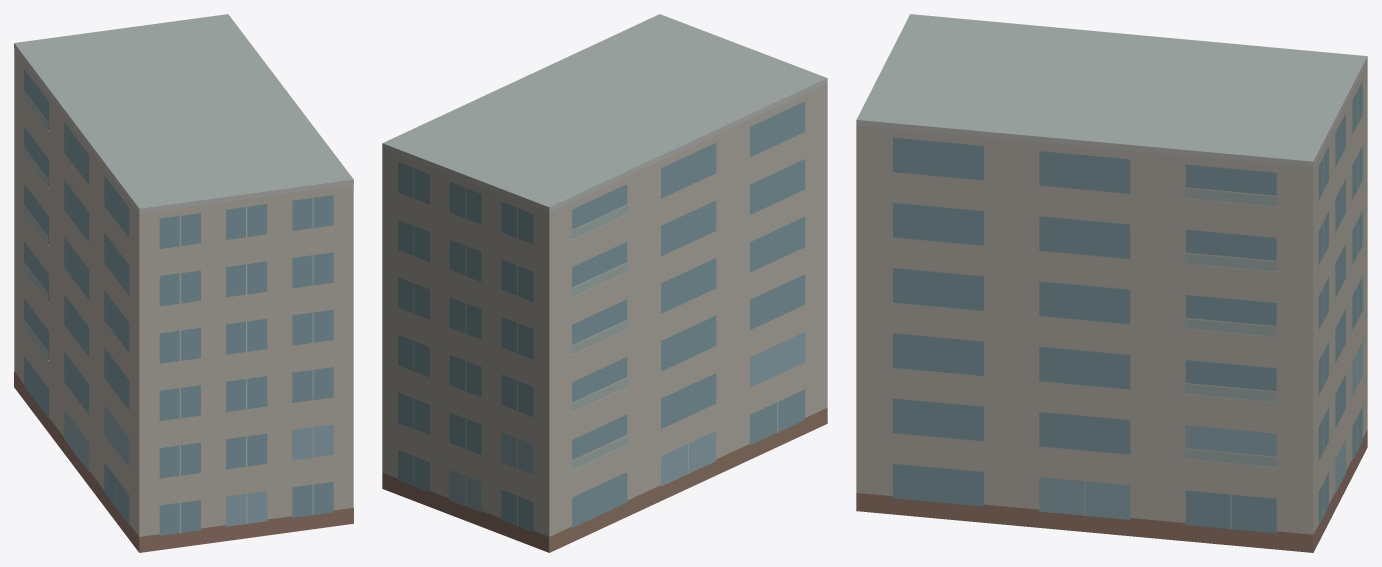
Rendered from survey-upis-32697957.glb.
3 renders of one model, left to right at view 1: azimuth 30°, elevation 25°; view 2: azimuth 150°, elevation 25°; view 3: azimuth 270°, elevation 25°, orthographic. The views are drawn at different scales.
Parts seen in each view (by area): view 1: survey-upis-32697957.tmp; view 2: survey-upis-32697957.tmp; view 3: survey-upis-32697957.tmp.
Part boxes in pixels (bbox=[...]): survey-upis-32697957.tmp: bbox=[14, 14, 353, 552]; survey-upis-32697957.tmp: bbox=[382, 14, 827, 552]; survey-upis-32697957.tmp: bbox=[856, 14, 1367, 552].
Size of the model in its own units: 13.44 by 16.6 by 19.67.
